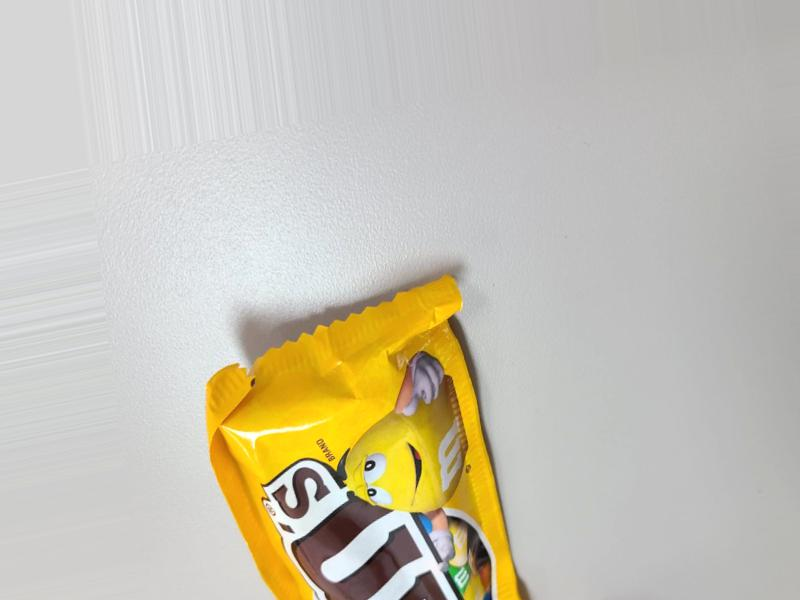m&m: (196, 309, 510, 581)
